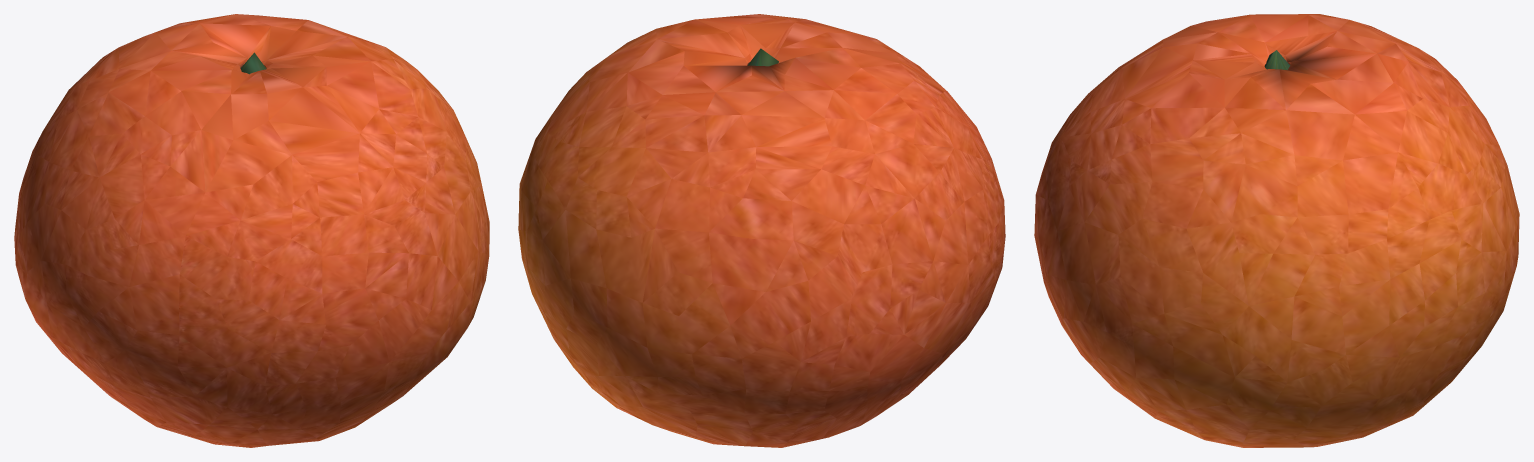
Rendered from orangeO.obj.
3 renders of one model, left to right at view 1: azimuth 30°, elevation 25°; view 2: azimuth 150°, elevation 25°; view 3: azimuth 270°, elevation 25°, orthographic.
Parts seen in each view (by area): view 1: orangeO; view 2: orangeO; view 3: orangeO.
Boxes of the visible parts, x1=… form: orangeO: x1=14, y1=14, x2=489, y2=447; orangeO: x1=518, y1=14, x2=1005, y2=447; orangeO: x1=1034, y1=14, x2=1519, y2=447.
Size of the model in its own units: 0.9437 by 0.7706 by 0.943.
Materials: 1 (1 with a texture image).
